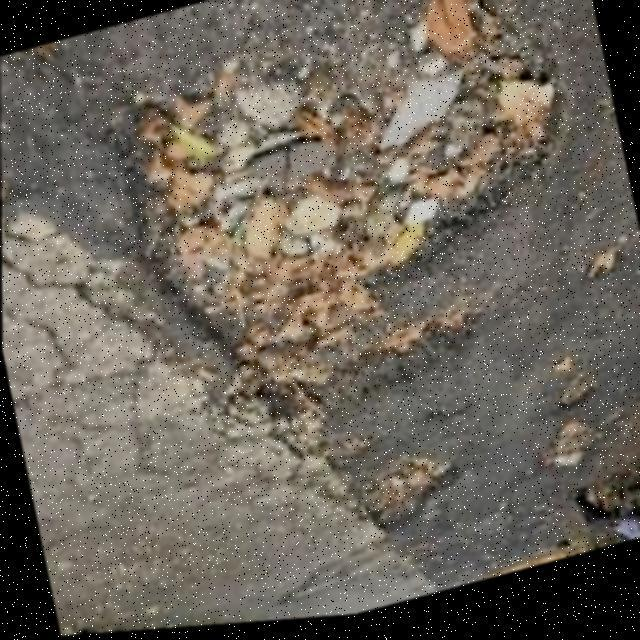pothole: (87, 0, 614, 461), (347, 443, 468, 550), (526, 421, 610, 491)
